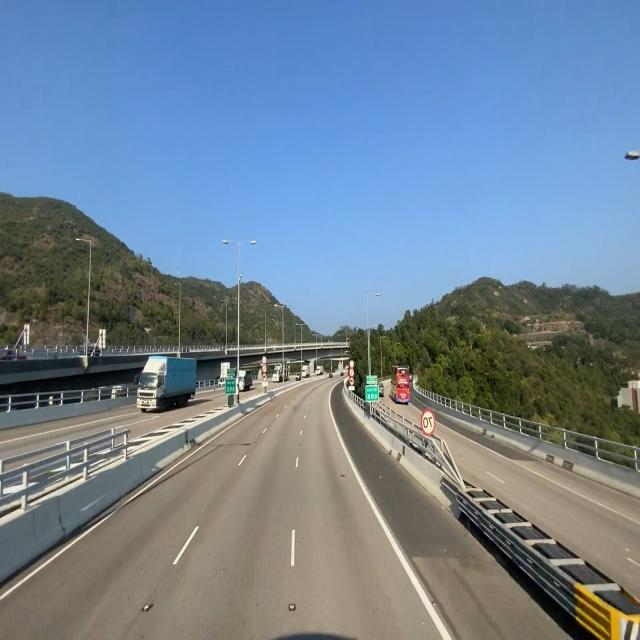Car: (136, 350, 196, 416), (388, 363, 412, 404)
